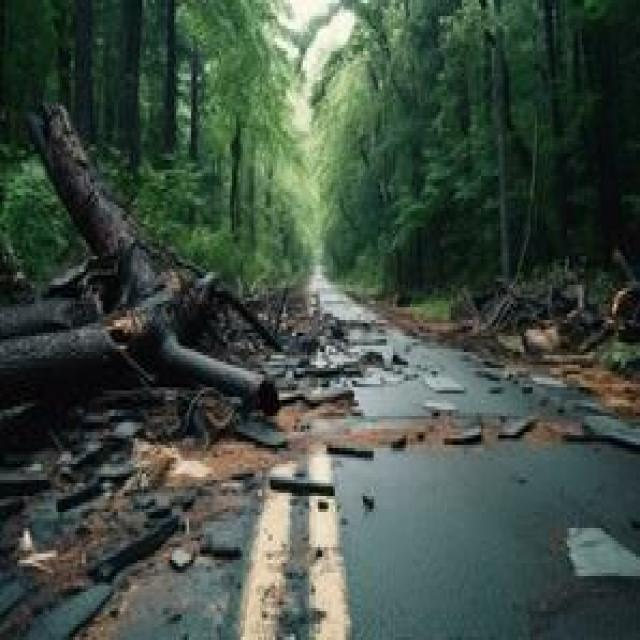road collapse: (45, 77, 640, 605)
